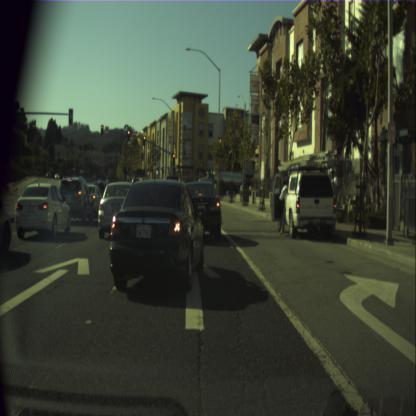Red: (142, 136, 146, 145), (127, 130, 130, 140), (172, 154, 175, 164)
RedLeft: (101, 124, 103, 134)
